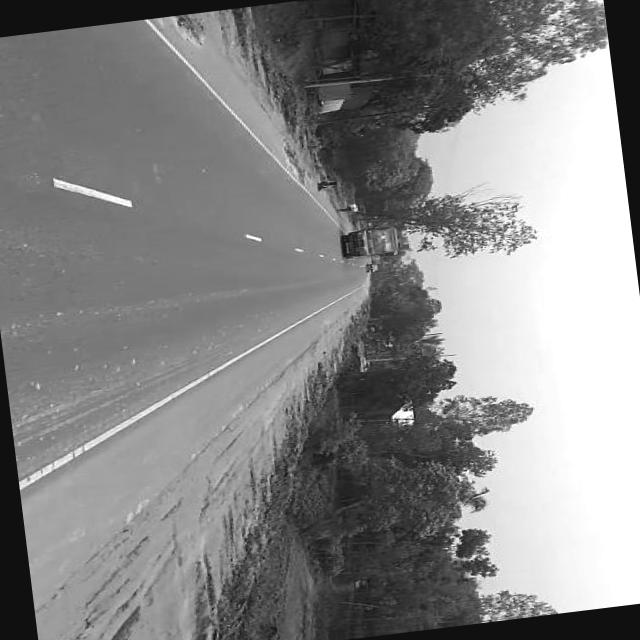bus: (338, 224, 403, 263)
car: (364, 264, 381, 276)
